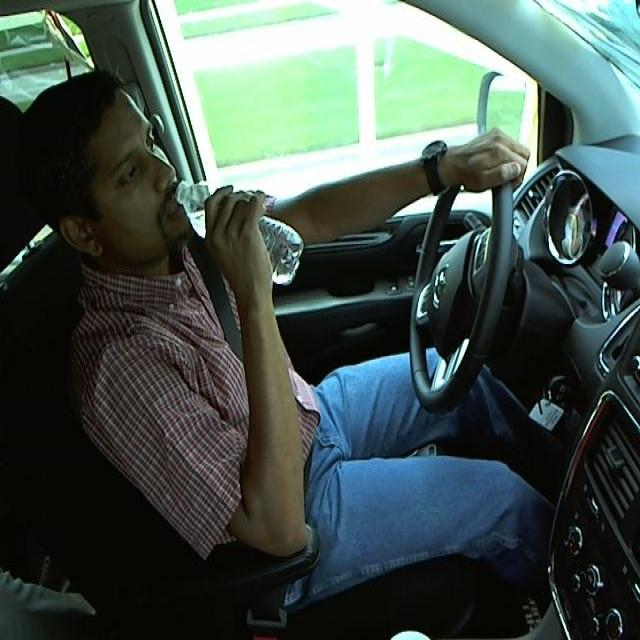drinking: (174, 175, 306, 289)
